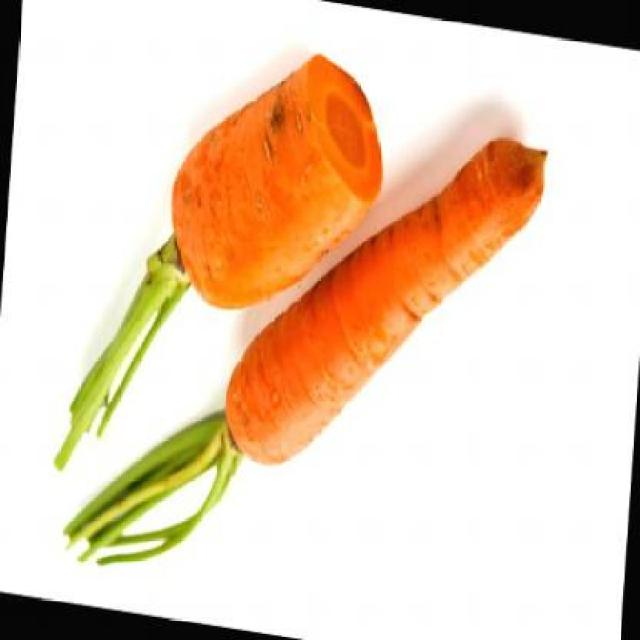carrot: (218, 97, 548, 506), (162, 33, 388, 332)
